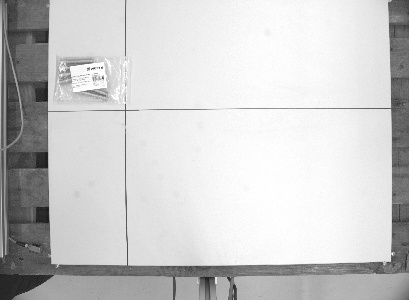t2: (50, 52, 135, 108)
